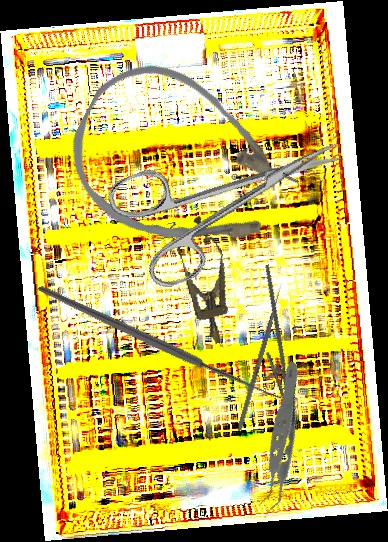Cannula: (48, 41, 319, 288)
Hook Surgical: (36, 201, 293, 478)
Iris Scissors: (103, 99, 364, 297)
Needle Holder: (234, 264, 314, 426)
Pusher: (237, 282, 284, 431)
Speculum: (165, 213, 242, 349)
Tissue Forceps: (201, 359, 355, 520)
